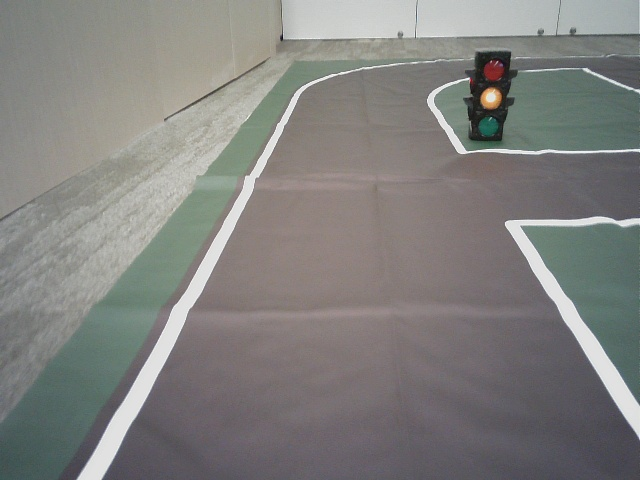yellow: (472, 53, 507, 137)
